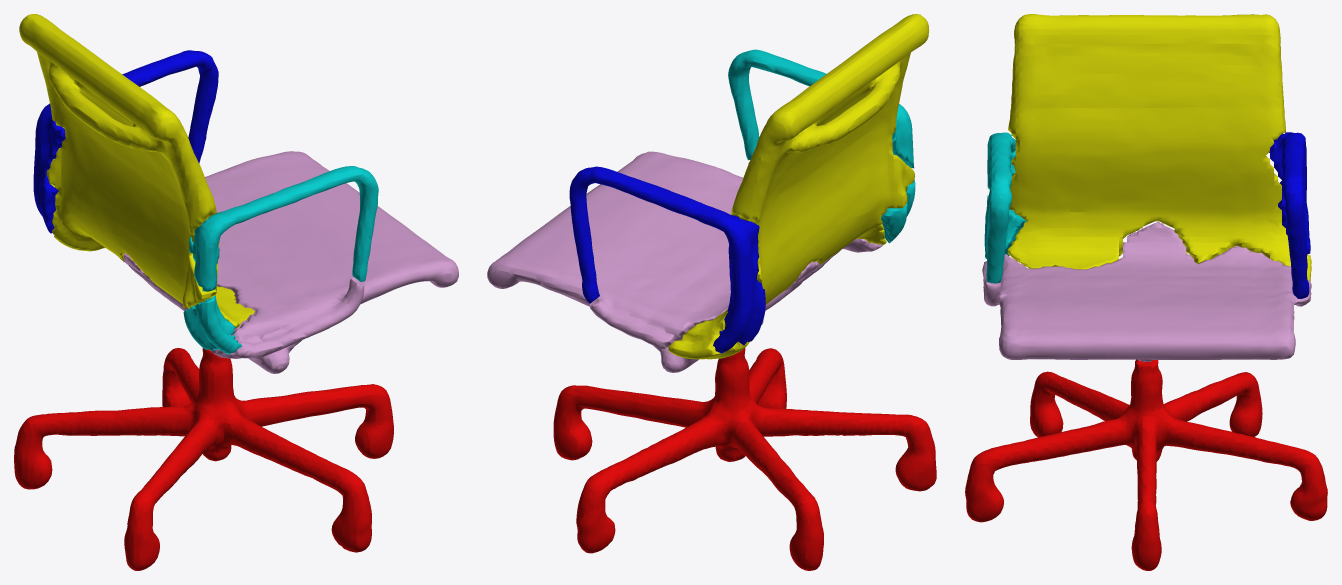
File: 1_local.glb
The picture shows the model from 3 angles, left to right: view 1: azimuth 30°, elevation 25°; view 2: azimuth 150°, elevation 25°; view 3: azimuth 270°, elevation 25°; orthographic projection. The views are drawn at different scales.
Size of the model in its own units: 0.7473 by 1.03 by 0.7904.
